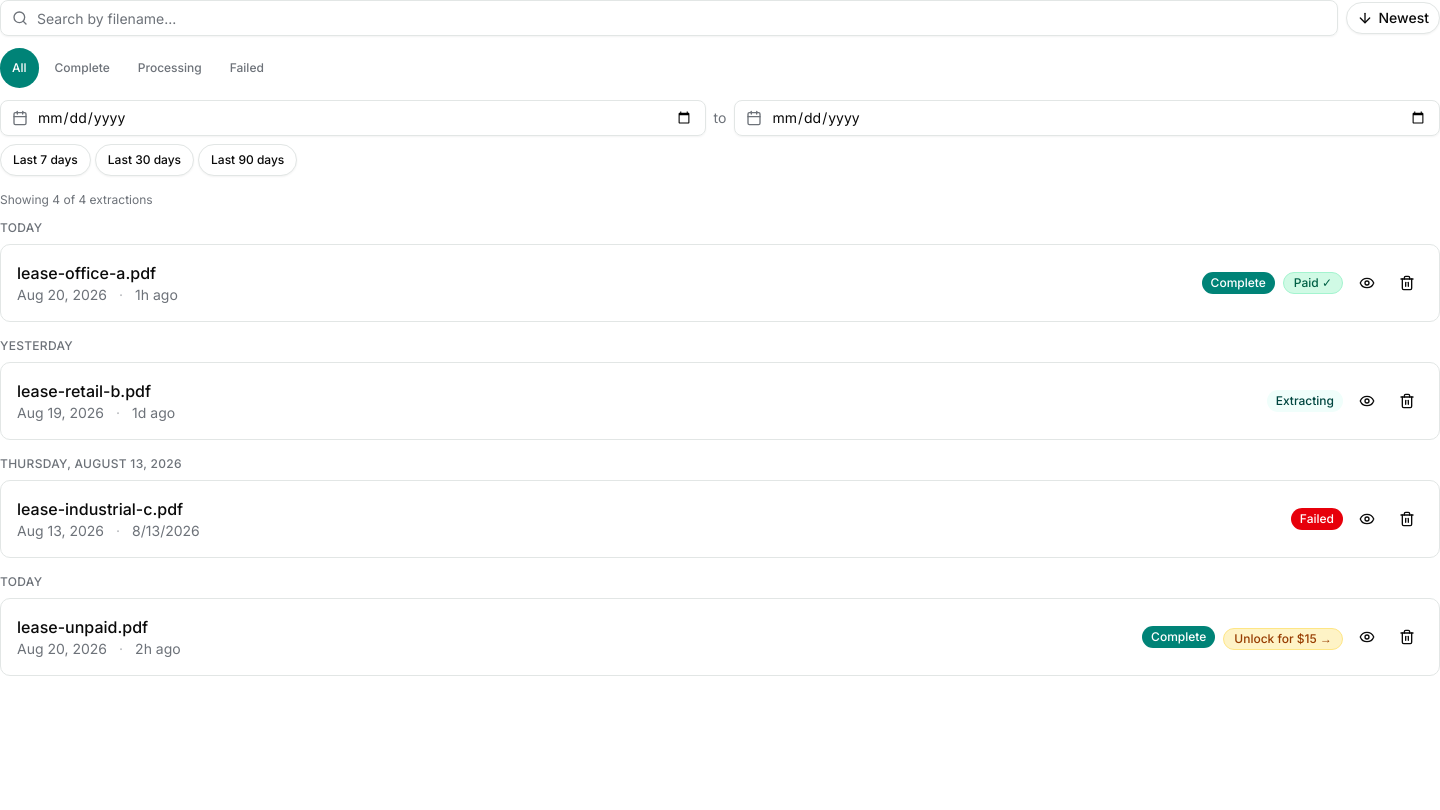
ExtractionList › surfaces an error and keeps the dialog open when delete fails
Expected: the text "lease-office-a.pdf" is shown, [17,263,156,283]
Step 1. Click the button named "delete" → [1407, 283], box [1391,267,1423,299]
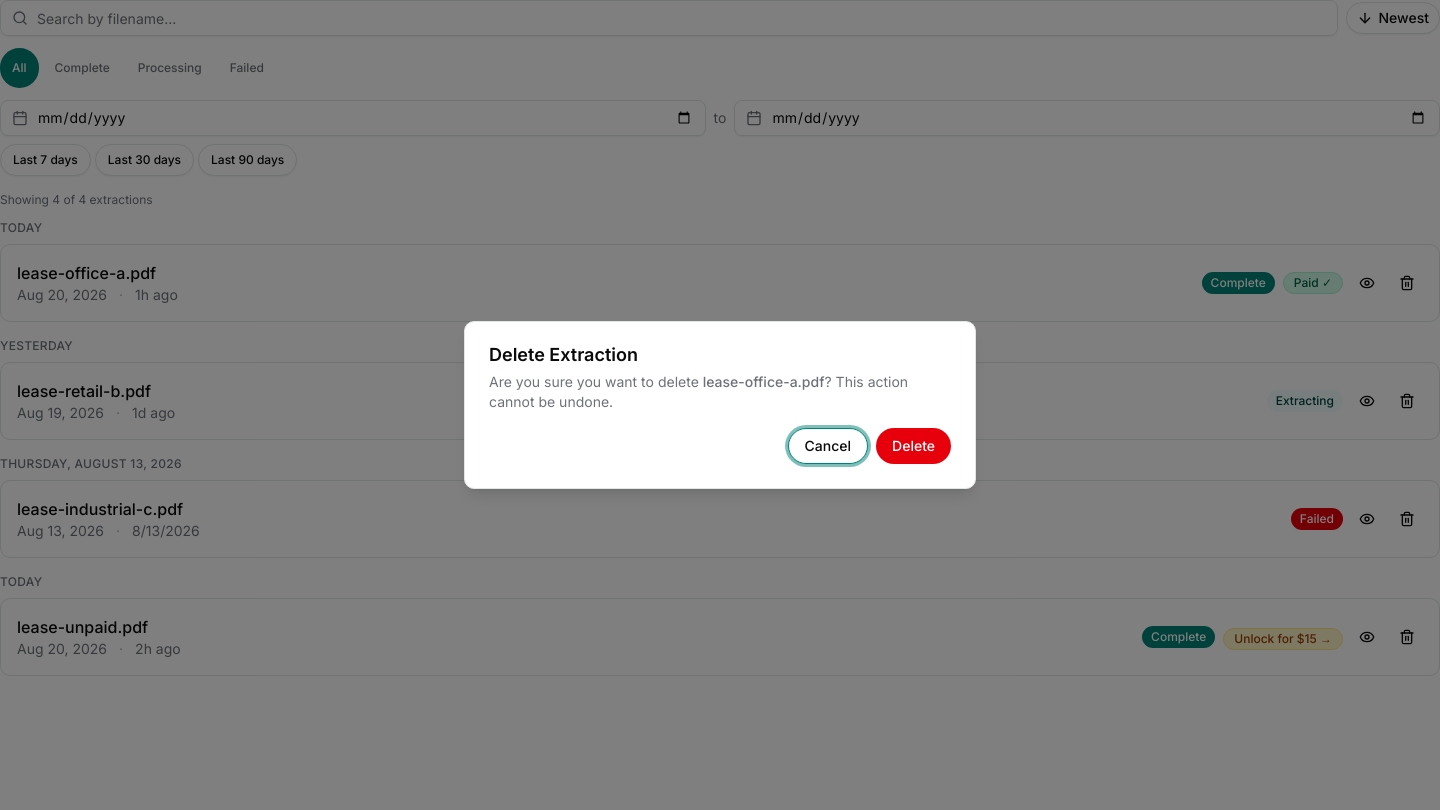
Step 2. Click the button "Delete" → [914, 446], box [876,428,951,464]
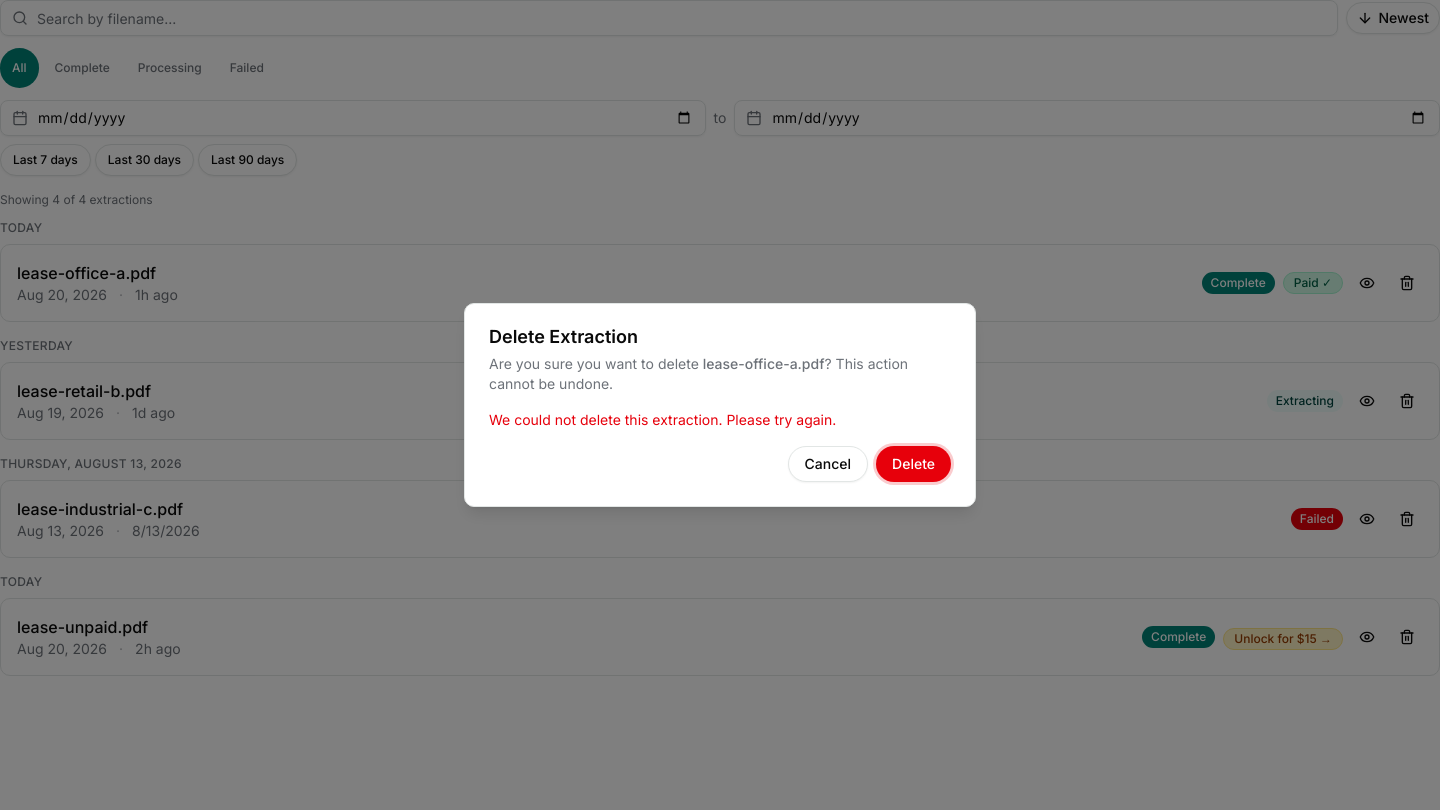
Now the heading "Delete Extraction" is shown, box [489,326,638,347]
Now the button "Delete" is enabled, box [876,446,951,482]
Now the message shows "could not delete", box [489,411,836,428]
